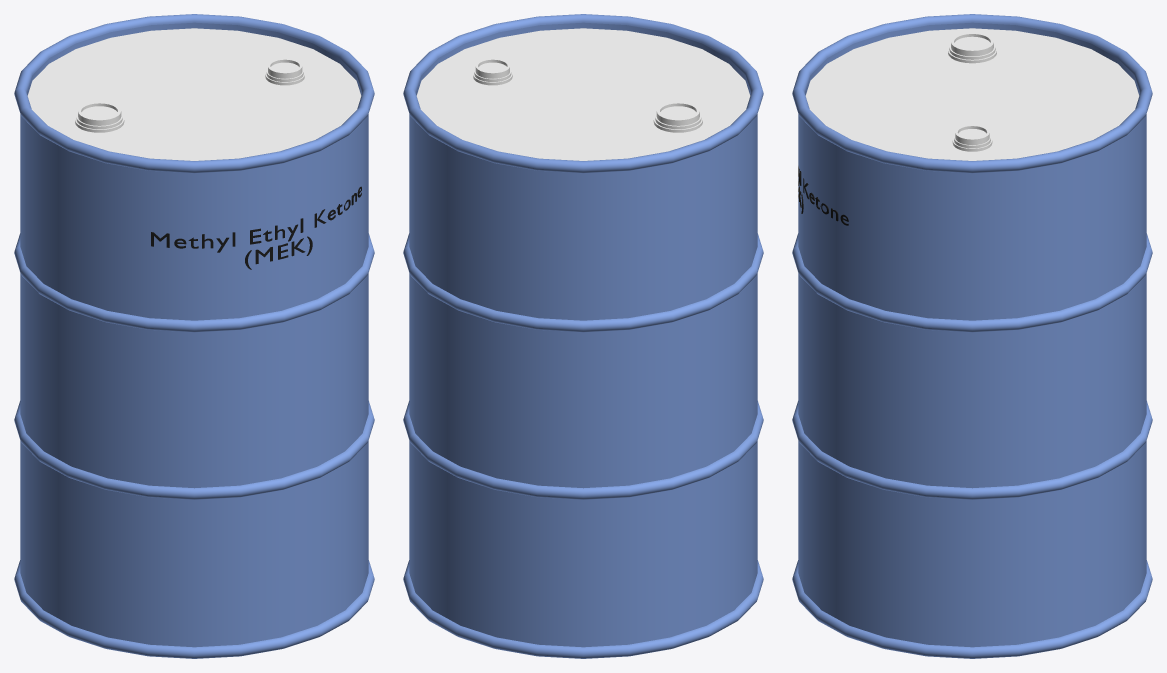
The model's file is Barrel.fbx.
The picture shows the model from 3 angles, left to right: view 1: azimuth 30°, elevation 25°; view 2: azimuth 150°, elevation 25°; view 3: azimuth 270°, elevation 25°; orthographic projection.
Parts seen in each view (by area): view 1: b, Text.002; view 2: b; view 3: b.
Boxes of the visible parts, bbox=[...] form: b: bbox=[14, 14, 374, 658]; Text.002: bbox=[151, 186, 361, 269]; b: bbox=[403, 14, 763, 658]; b: bbox=[792, 14, 1152, 658].
Size of the model in its own units: 90.93 by 138 by 90.93.
